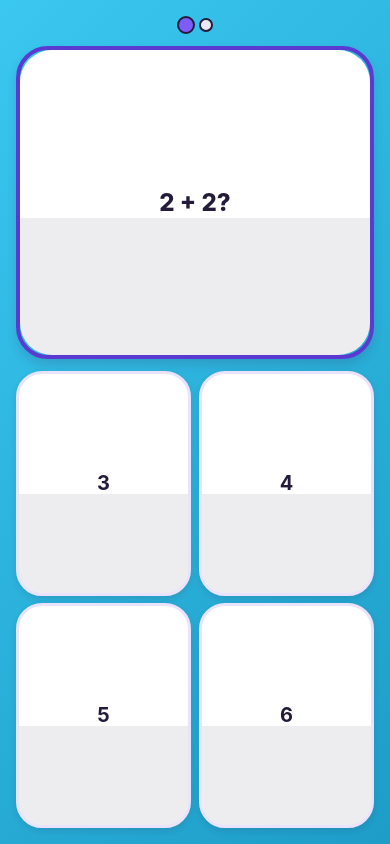
Scenario: QuizScreen › shows the younger-child (2-4) wrong-answer wording when the profile age is 2-4
Check: the text "2 + 2?" is shown, box left=159, top=188, right=231, bottom=217
Click the button "3". click: (104, 483)
box: left=16, top=371, right=191, bottom=595
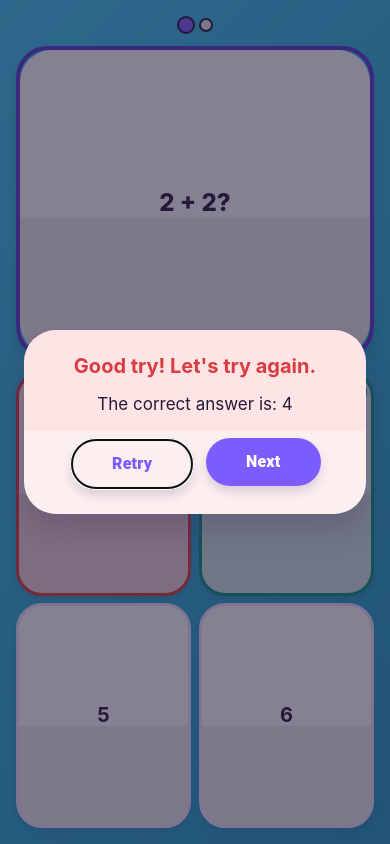
Check: the text "Good try! Let's try again." is shown, box left=74, top=354, right=316, bottom=378
